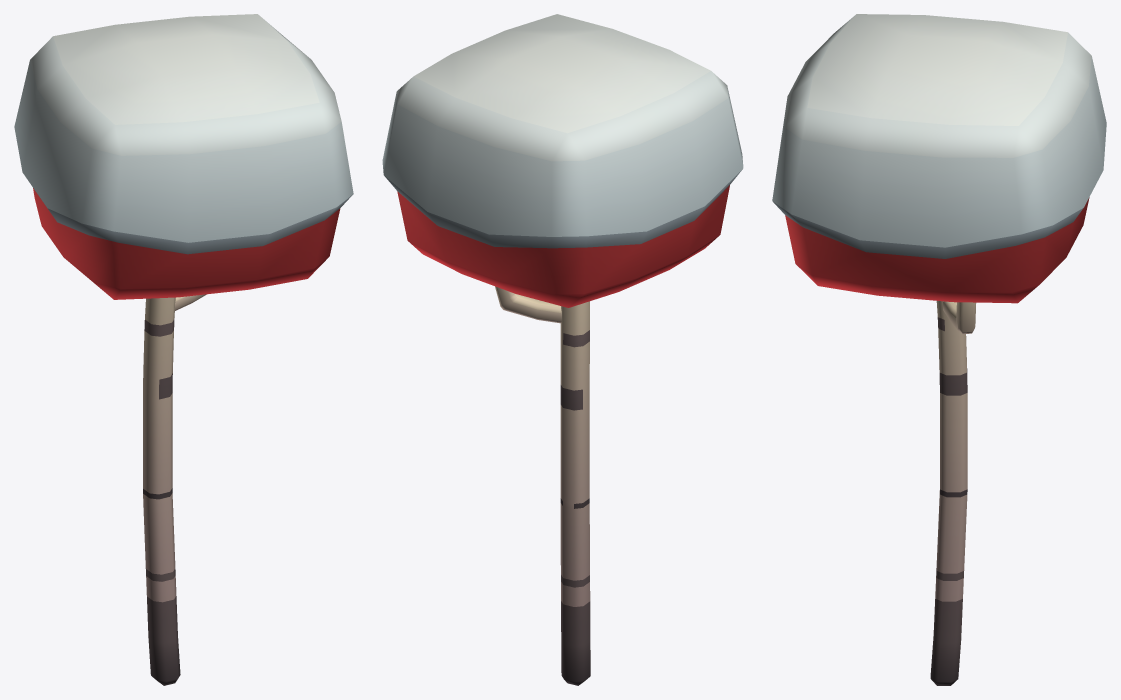
The model's file is birch_tree_col3_08_snow.fbx.
3 views of the same model, side by side, from view 1: azimuth 30°, elevation 25°; view 2: azimuth 150°, elevation 25°; view 3: azimuth 270°, elevation 25° (orthographic). The views are drawn at different scales.
Visible parts, largest first — view 1: birch_tree_col3_08_snow; view 2: birch_tree_col3_08_snow; view 3: birch_tree_col3_08_snow.
Boxes of the visible parts, x1=… form: birch_tree_col3_08_snow: x1=14, y1=14, x2=353, y2=685; birch_tree_col3_08_snow: x1=382, y1=14, x2=743, y2=685; birch_tree_col3_08_snow: x1=772, y1=14, x2=1106, y2=685.
Size of the model in its own units: 296 by 621 by 295.
1 material, 1 textured.
